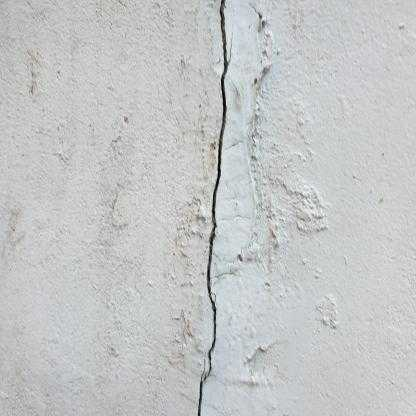crack: (195, 5, 230, 411)
